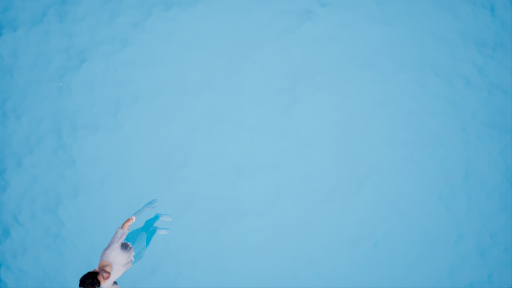person: (71, 192, 185, 287)
